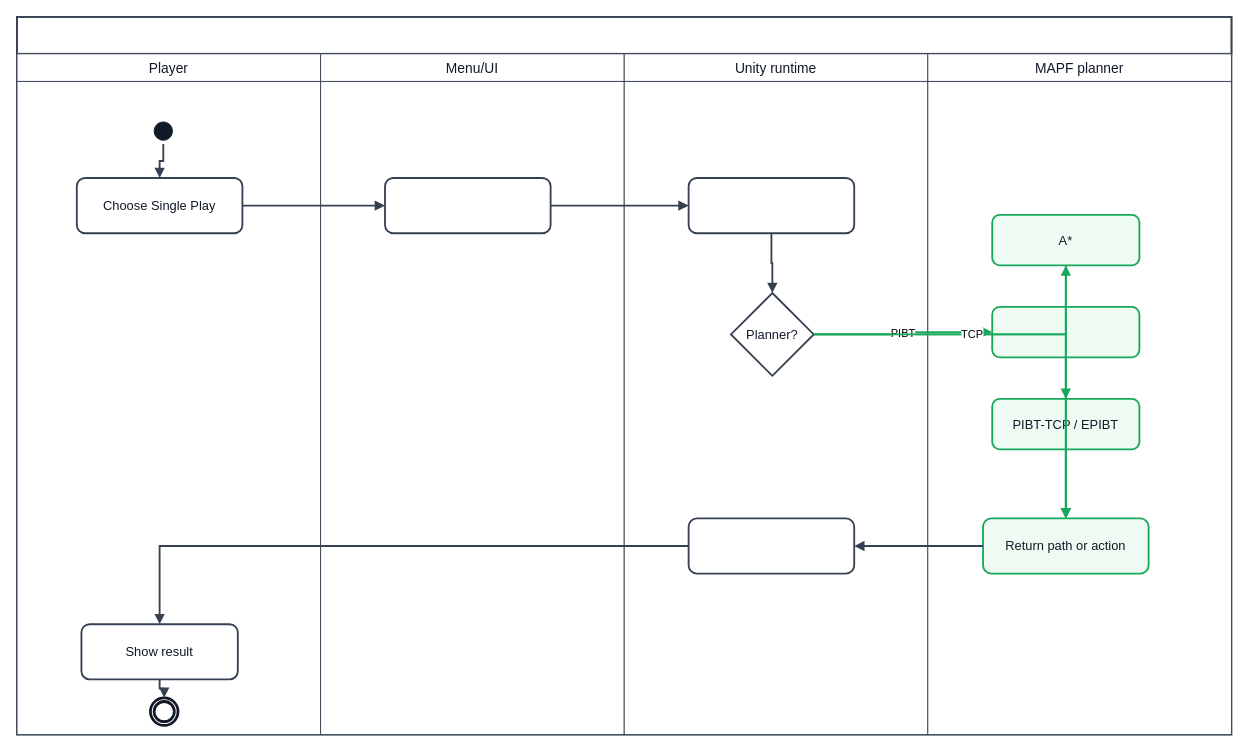
Some shapes in this 1248 by 751 pixel diagram are drawn without their labels. Here are the shapes that lost their labels. From the top down, the box of each, then its label:
(16, 16, 1232, 54): Single Play activity map
(384, 177, 551, 234): Select map and mode
(687, 177, 855, 234): Load scene
(991, 305, 1140, 358): PIBT C#
(687, 517, 855, 574): Run match
